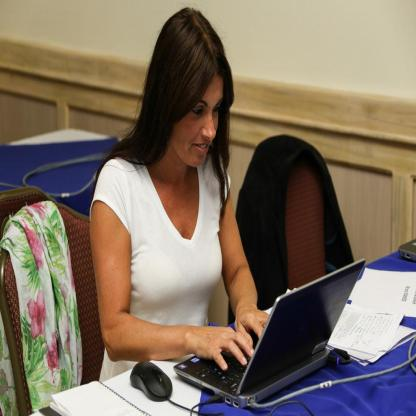board: (174, 260, 370, 408)
